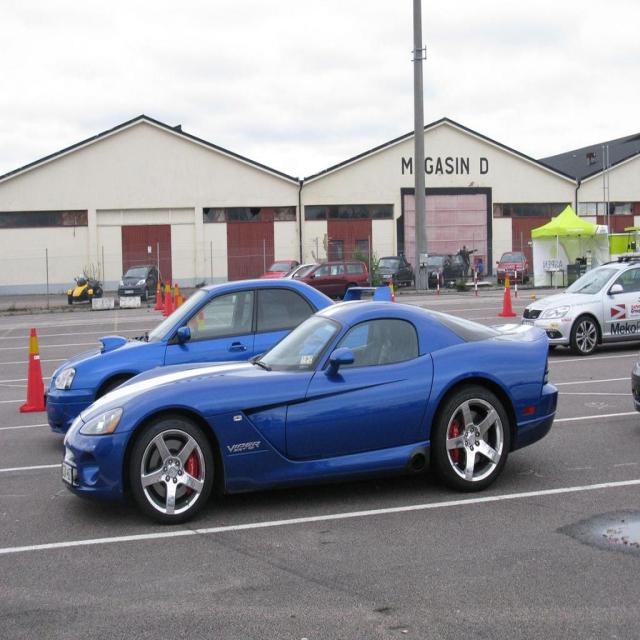car: (64, 300, 558, 523), (67, 278, 99, 304)
